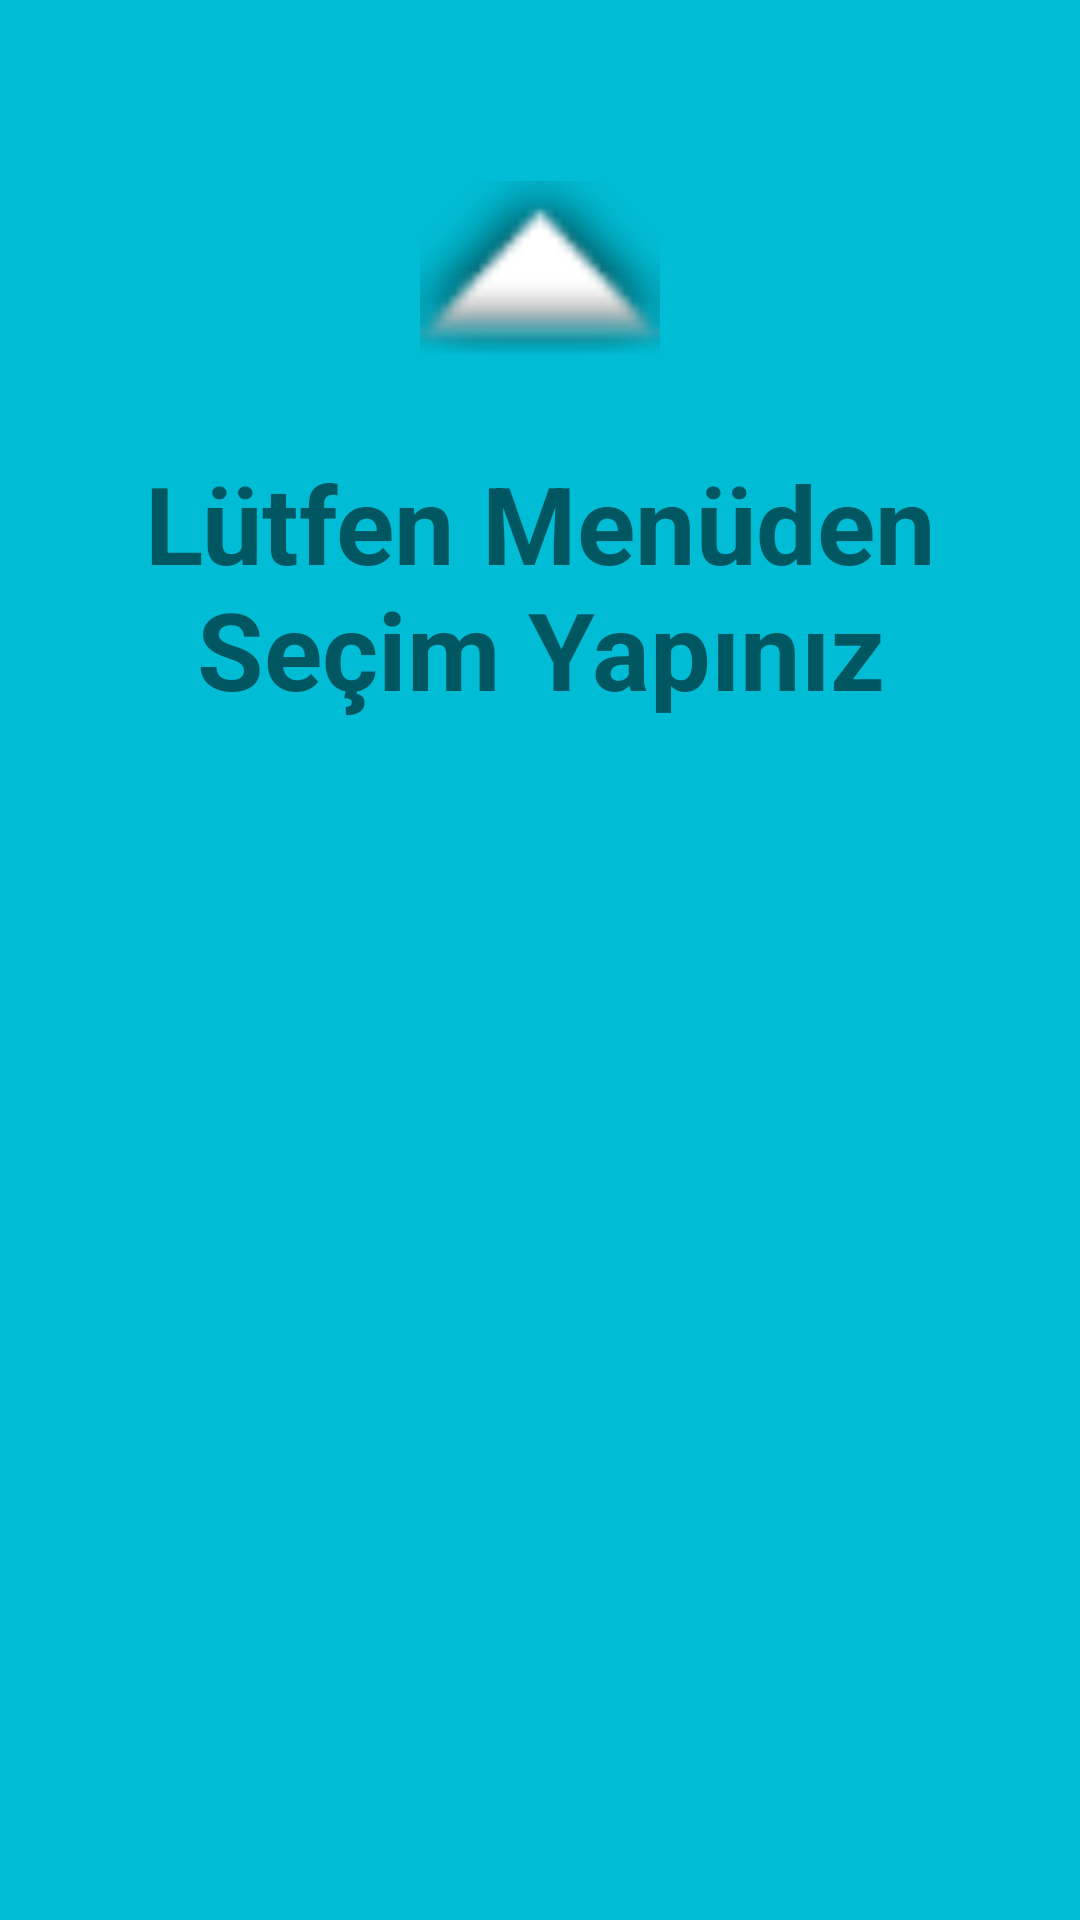

Icons on this 1080 × 1920 Android screen, each with its box as box(x1, y1, x2, y2):
arrow up float: box(420, 190, 660, 348)
